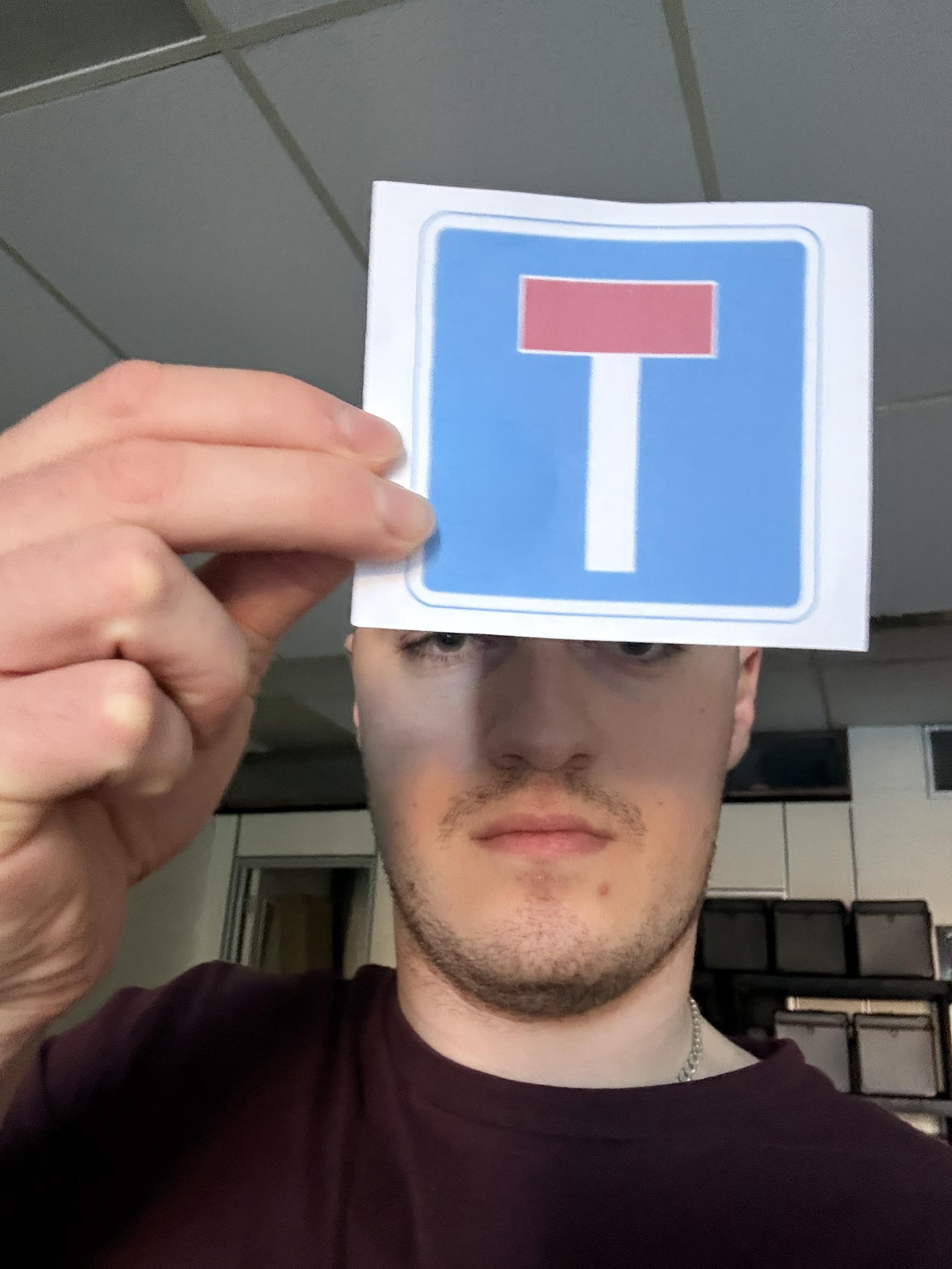Dead End: (262, 251, 655, 865)
